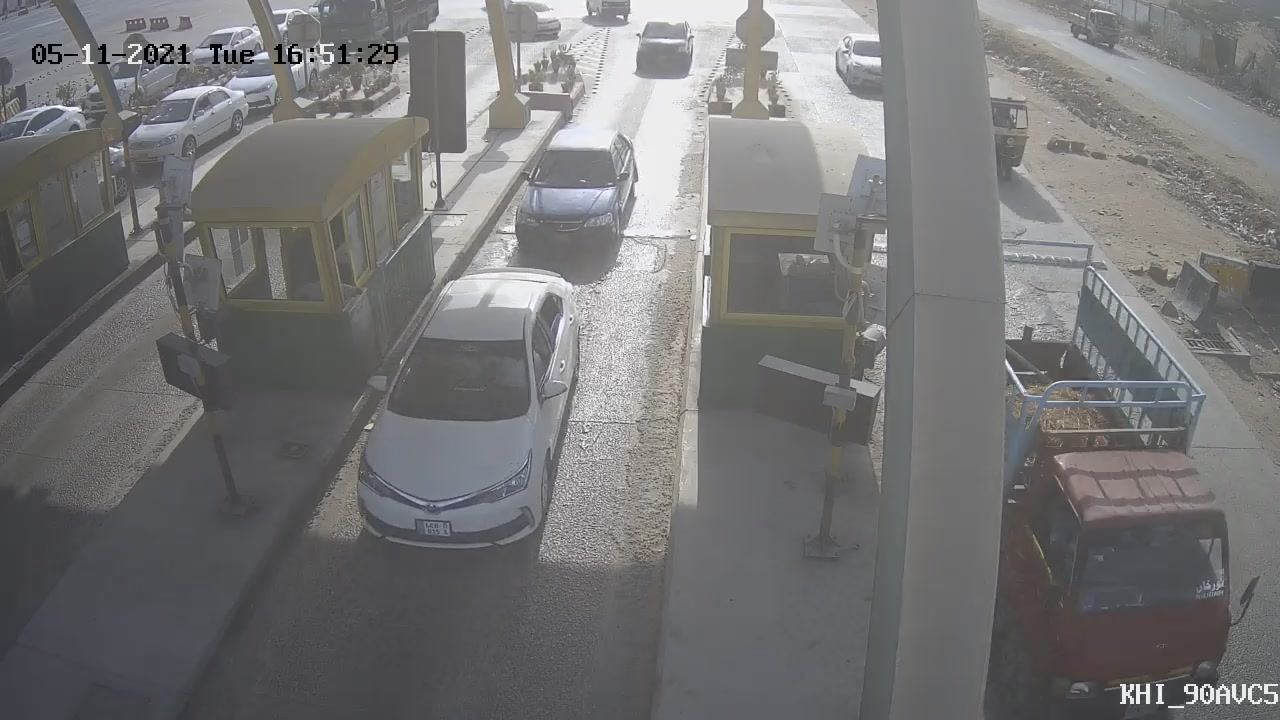F1: (329, 252, 609, 578), (500, 114, 656, 269)
